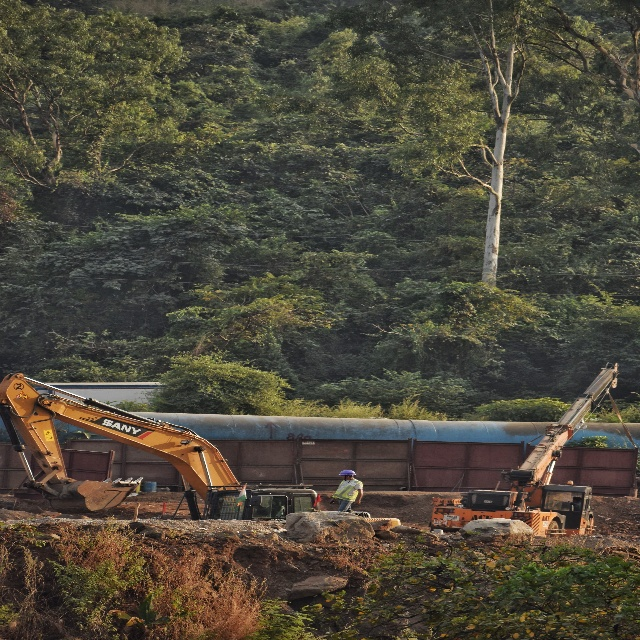Sin_guantes: (354, 498, 360, 506), (330, 497, 336, 504)
